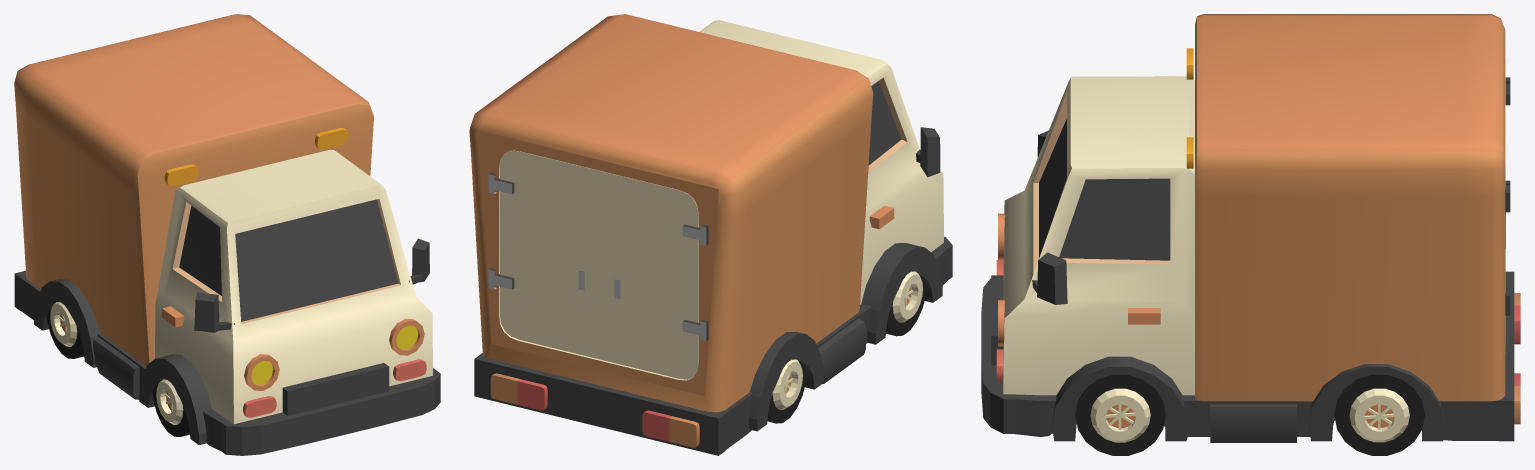
The model's file is Brown_Small_Truck.fbx.
3 renders of one model, left to right at view 1: azimuth 30°, elevation 25°; view 2: azimuth 150°, elevation 25°; view 3: azimuth 270°, elevation 25°, orthographic. The views are drawn at different scales.
Parts seen in each view (by area): view 1: Brown_Small_Truck, Brown_Small_Truck_Wheel, Brown_Small_Truck_Wheel2; view 2: Brown_Small_Truck, Small_Left_Door003, Small_Right_Door003, Brown_Small_Truck_Wheel, Brown_Small_Truck_Wheel2; view 3: Brown_Small_Truck, Brown_Small_Truck_Wheel, Brown_Small_Truck_Wheel2.
Boxes of the visible parts, x1=… form: Brown_Small_Truck: x1=14, y1=14, x2=440, y2=455; Brown_Small_Truck_Wheel: x1=152, y1=379, x2=189, y2=436; Brown_Small_Truck_Wheel2: x1=47, y1=302, x2=84, y2=358; Brown_Small_Truck: x1=469, y1=14, x2=952, y2=455; Small_Left_Door003: x1=488, y1=150, x2=599, y2=358; Small_Right_Door003: x1=599, y1=170, x2=708, y2=379; Brown_Small_Truck_Wheel: x1=886, y1=271, x2=927, y2=336; Brown_Small_Truck_Wheel2: x1=767, y1=359, x2=807, y2=423; Brown_Small_Truck: x1=981, y1=14, x2=1520, y2=442; Brown_Small_Truck_Wheel: x1=1075, y1=374, x2=1165, y2=455; Brown_Small_Truck_Wheel2: x1=1334, y1=374, x2=1424, y2=455.
Size of the model in its own units: 218 by 220 by 347.
